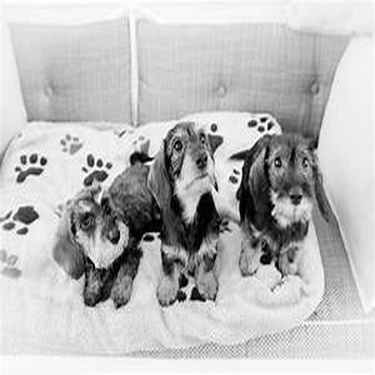dog: (33, 126, 171, 323), (119, 101, 237, 313), (217, 117, 336, 288)
